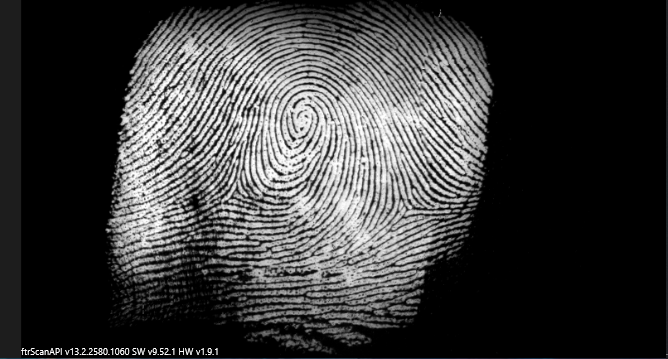nucelo: (286, 98, 314, 136)
verticilo: (222, 177, 251, 203), (390, 197, 418, 218)
